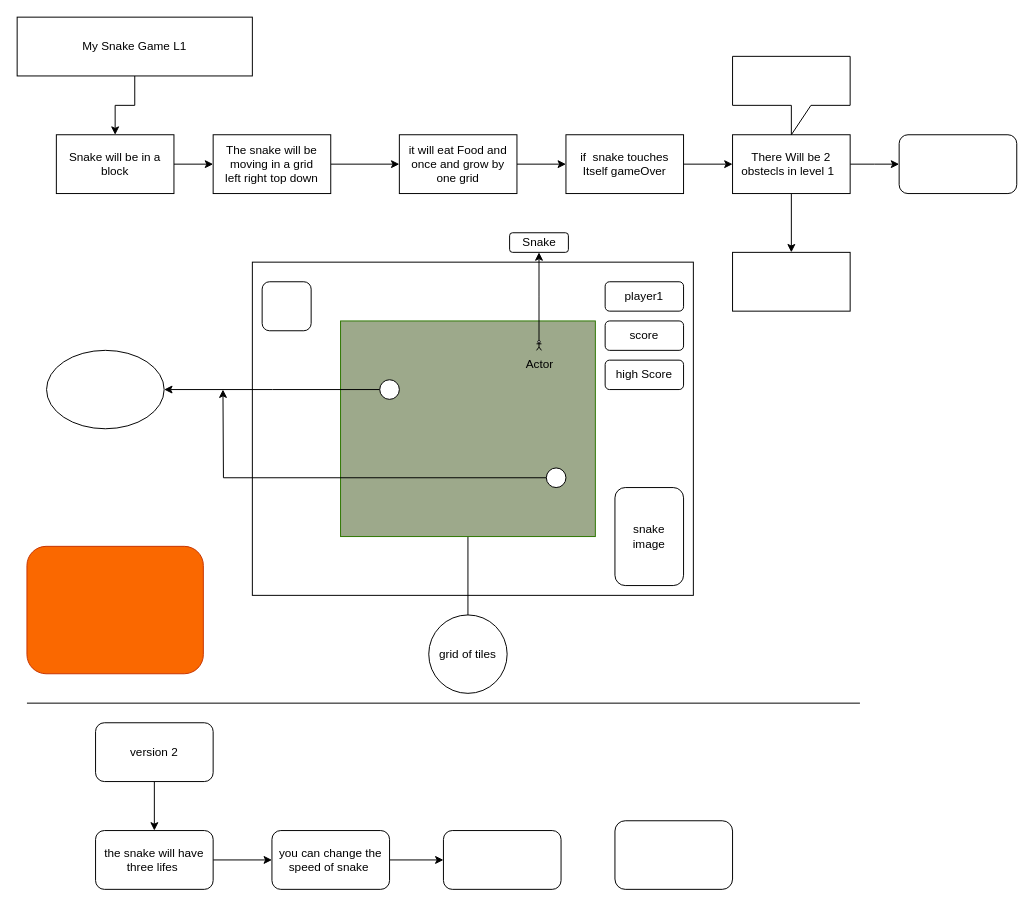
Image size: 1034x907. Some labels were removed from this diagram. The box of each missing label's shape, as (x1, y1, x2, y2) in pixels:
2 soild grid that would return game over if touched: (732, 55, 850, 135)
complex levels with time limits: (442, 830, 561, 889)
Css grid request animation frame Fps control Gameloop: (26, 545, 203, 674)
hitting obstacle once will result in unconscious snake and twice in gameover: (614, 820, 733, 889)
if Snake hits border of block then too game over: (732, 251, 850, 311)
logo: (261, 281, 311, 331)
music on eat move and game over: (898, 134, 1017, 194)
obstecles: (46, 349, 164, 429)
